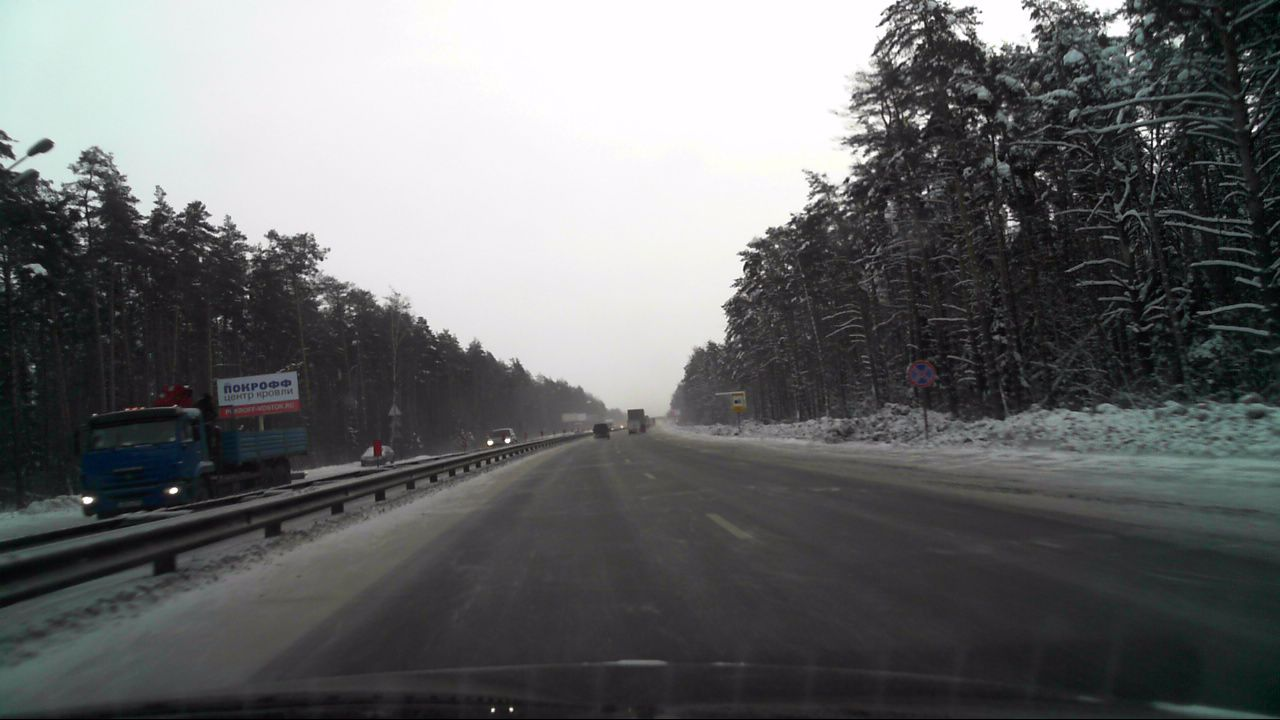No Parking: (905, 359, 934, 389)
